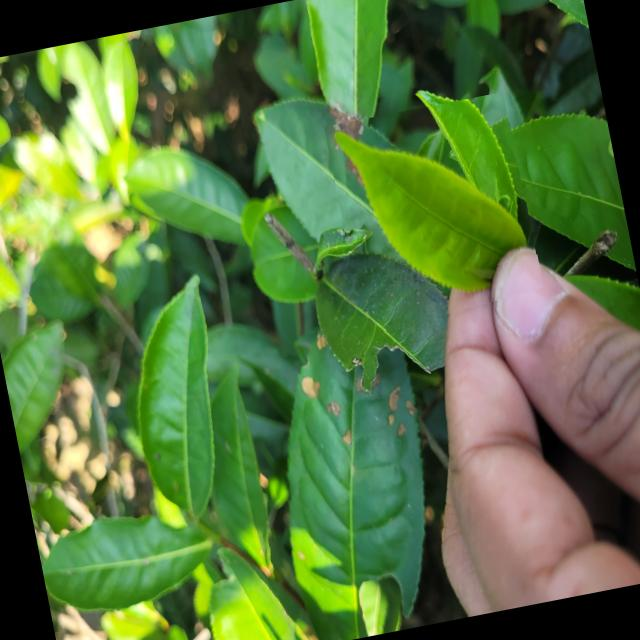Catagory A(1-2 days): (324, 90, 546, 336)
